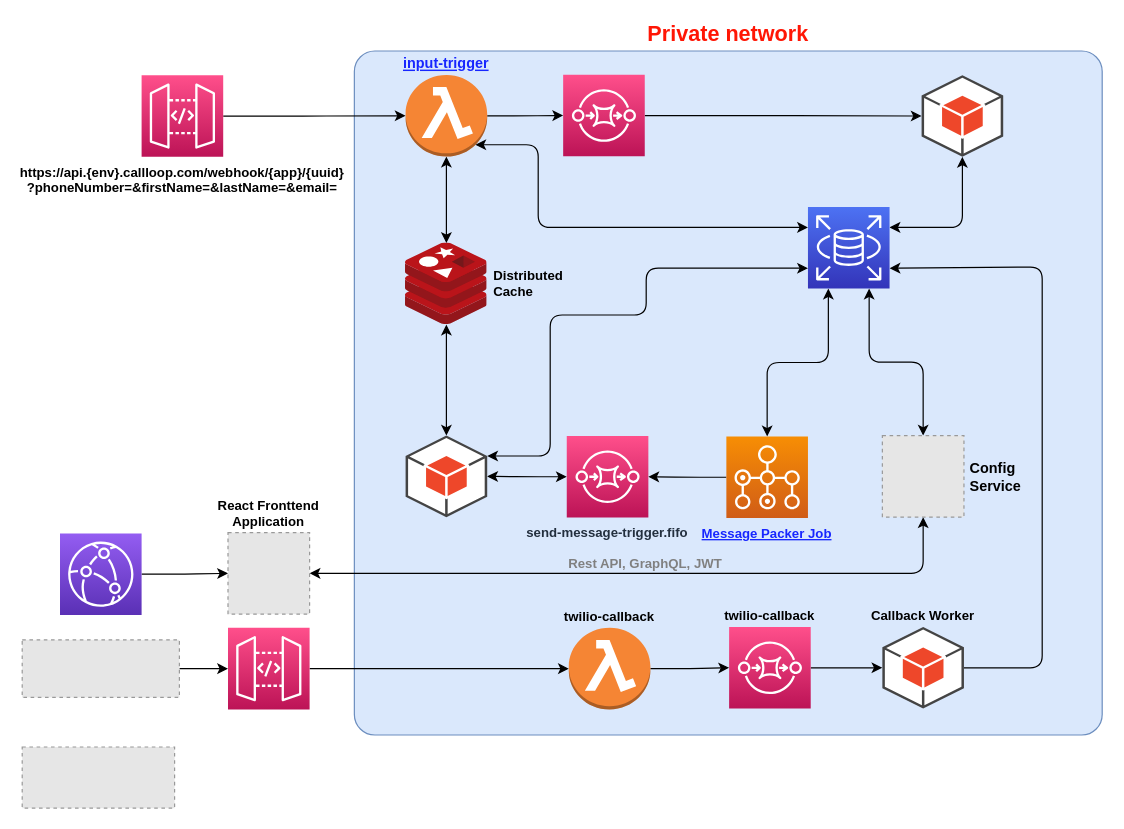
Image size: 1124x829. Some labels were removed from this diagram. Grey dashed boxes stand in for pictures. The centre of each missing label's shape, as x and y in pixels:
"api_twilio_callback" belongs at point (268, 668).
"Database" belongs at point (848, 247).
"SendMessage Worker" belongs at point (445, 475).
"Trigger WebHook Worker" belongs at point (961, 115).
"trigger-input" belongs at point (603, 115).
"{env}.callloop.com" belongs at point (100, 573).
